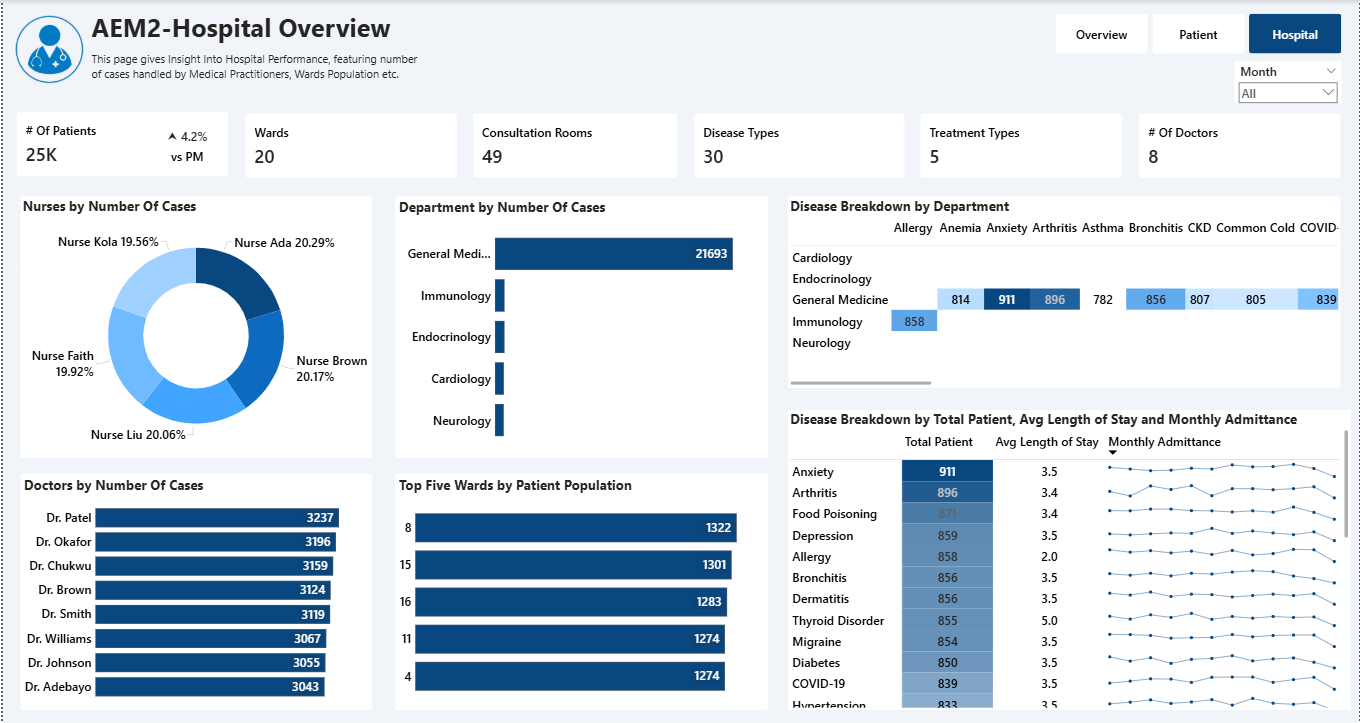

Layout of this report page (visuals, bound fields, positions):
{"tool":"powerbi","page":{"name":"Hospital","canvas":[3000,1600],"ordinal":2},"visuals":[{"type":"textbox","box":[190.7,16.6,738.1,182.4],"z":0},{"type":"image","box":[13.8,19.4,176.9,179.7],"z":1000},{"type":"pageNavigator","box":[2327.6,30.4,633,88.5],"z":2000},{"type":"barChart","title":"Top Five Wards by Patient Population","fields":{"Category":["Extended_Patient_Attributes.Ward_Number"],"Y":["CountNonNull(Extended_Patient_Attributes.Patient_ID)"]},"box":[868,1047.7,823.8,522.5],"z":3000},{"type":"pivotTable","title":"Disease Breakdown by Total Patient, Avg Length of Stay and Monthly Admittance ","fields":{"Rows":["Patient_Treatment.Disease"],"Values":["CountNonNull(Patient_Treatment.Patient_ID)","Avg(Patient_Treatment.Length of Stay)","SparklineData(CountNonNull(Patient_Treatment.Patient_ID)_[Date Table.Month Name])"]},"box":[1736,906.7,1244,663.4],"z":4000},{"type":"pivotTable","title":"Disease Breakdown by Department","fields":{"Rows":["Patient_Doctors_Dataset.Department"],"Values":["CountNonNull(Patient_Doctors_Dataset.Patient_ID)"],"Columns":["Patient_Treatment.Disease"]},"box":[1736,434,1221.8,422.9],"z":5000},{"type":"cardVisual","fields":{"Data":["Count(Patient_Treatment.Treatment_Type)"]},"box":[2030.1,251.6,445.1,141],"z":6000},{"type":"cardVisual","fields":{"Data":["Count(Patient_Doctors_Dataset.Doctor_Attending)"]},"box":[2512.8,251.6,445.1,141],"z":7000},{"type":"cardVisual","fields":{"Data":["Count(Patient_Doctors_Dataset.Consultation_Room)"]},"box":[1040,251.6,450.6,141],"z":8000},{"type":"cardVisual","fields":{"Data":["Count(Extended_Patient_Attributes.Ward_Number)"]},"box":[535.2,251.6,467.2,141],"z":9000},{"type":"cardVisual","fields":{"Data":["Count(Patient_Treatment.Disease)"]},"box":[1528.1,251.6,464.4,141],"z":10000},{"type":"slicer","fields":{"Values":["Date Table.Month Name"]},"box":[2722.9,135.5,237.7,94],"z":11000},{"type":"cardVisual","fields":{"Data":["Count(Patient_Treatment.Patient_ID)"]},"box":[30.4,248.8,467.2,141],"z":12000},{"type":"barChart","title":"Department by Number Of Cases","fields":{"Category":["Patient_Doctors_Dataset.Department"],"Y":["CountNonNull(Patient_Doctors_Dataset.Patient_ID)"]},"box":[868,434,823.8,577.8],"z":13000},{"type":"donutChart","title":"Nurses by Number Of Cases","fields":{"Category":["Extended_Patient_Attributes.Nurse"],"Y":["CountNonNull(Extended_Patient_Attributes.Patient_ID)"]},"box":[38.7,434,776.8,577.8],"z":14000},{"type":"card","fields":{"Values":["Patient_Treatment.MoM % difference"]},"box":[345.5,265.4,124.4,110.6],"z":16000},{"type":"barChart","title":"Doctors by Number Of Cases","fields":{"Category":["Patient_Doctors_Dataset.Doctor_Attending"],"Y":["CountNonNull(Patient_Doctors_Dataset.Patient_ID)"]},"box":[38.7,1047.7,776.8,522.5],"z":17001}]}

Visuals, with their boxes in screenshot pixels (x1, y1, x2, y2), scaled from the page's 3000x1600 canvas onto the 1360x723 screenshot:
textbox: select_region(86, 8, 421, 90)
image: select_region(6, 9, 86, 90)
pageNavigator: select_region(1055, 14, 1342, 54)
"Top Five Wards by Patient Population" barChart: select_region(393, 473, 767, 710)
"Disease Breakdown by Total Patient, Avg Length of Stay and Monthly Admittance " pivotTable: select_region(787, 410, 1351, 709)
"Disease Breakdown by Department" pivotTable: select_region(787, 196, 1341, 387)
cardVisual - Count(Patient_Treatment.Treatment_Type): select_region(920, 114, 1122, 177)
cardVisual - Count(Patient_Doctors_Dataset.Doctor_Attending): select_region(1139, 114, 1341, 177)
cardVisual - Count(Patient_Doctors_Dataset.Consultation_Room): select_region(471, 114, 676, 177)
cardVisual - Count(Extended_Patient_Attributes.Ward_Number): select_region(243, 114, 454, 177)
cardVisual - Count(Patient_Treatment.Disease): select_region(693, 114, 903, 177)
slicer - Date Table.Month Name: select_region(1234, 61, 1342, 104)
cardVisual - Count(Patient_Treatment.Patient_ID): select_region(14, 112, 226, 176)
"Department by Number Of Cases" barChart: select_region(393, 196, 767, 457)
"Nurses by Number Of Cases" donutChart: select_region(18, 196, 370, 457)
card - Patient_Treatment.MoM % difference: select_region(157, 120, 213, 170)
"Doctors by Number Of Cases" barChart: select_region(18, 473, 370, 710)
